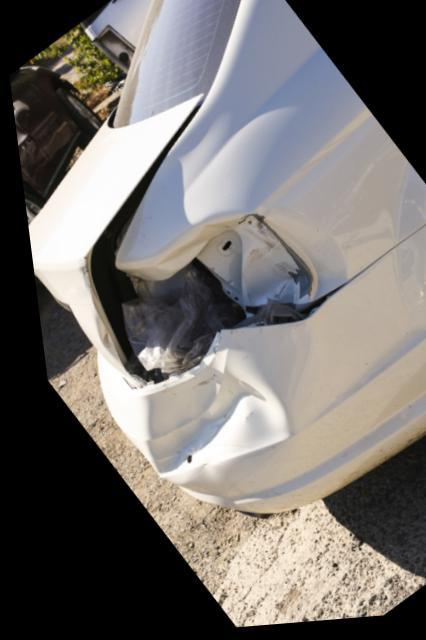dent: (133, 354, 276, 486), (149, 211, 341, 300)
dislocated part: (22, 110, 196, 381)
no part: (115, 226, 302, 388)
